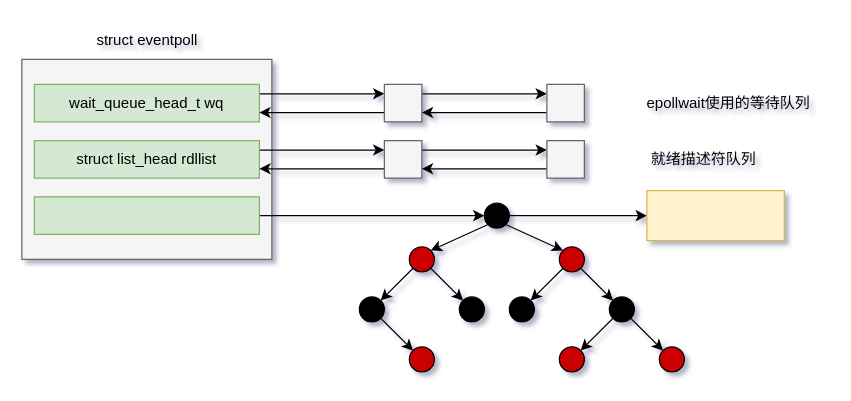
This 851x401 diagram has some shape labels left out. The centre of each missing label's shape, as x and y in pixels:
"struct epitrm" goes at [715,215].
"struct rb_root rbr" goes at [146,215].
